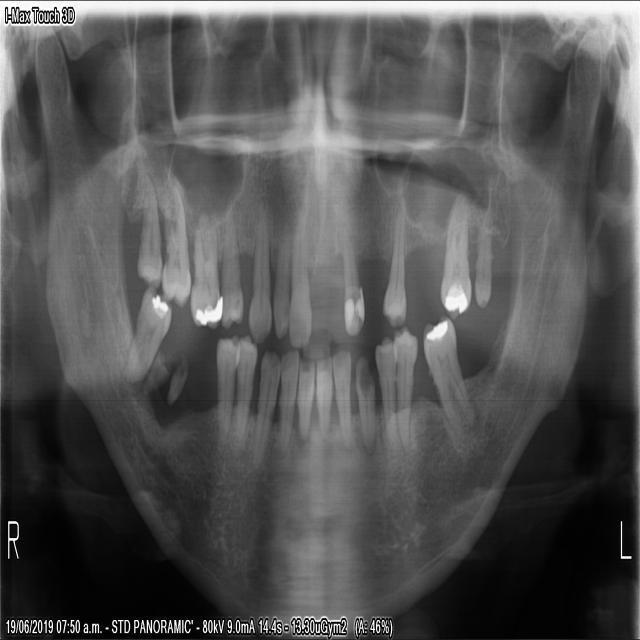LCD: (353, 350, 374, 458)
LID: (329, 342, 349, 452), (311, 349, 332, 446)
LIU: (340, 201, 364, 339)
LMD: (417, 306, 474, 442)
LMU: (433, 187, 471, 322)
LPMD: (388, 318, 418, 453), (371, 330, 394, 459)
LPMU: (378, 191, 406, 328)
RCD: (246, 345, 279, 469)
RCU: (245, 197, 272, 345), (269, 217, 290, 342)
RID: (274, 345, 299, 457), (293, 353, 314, 441)
RIU: (284, 200, 309, 348)
RMD: (116, 283, 170, 378)
RMU: (157, 167, 190, 308), (185, 209, 221, 327), (133, 162, 159, 290)
RPMD: (211, 331, 240, 453), (229, 330, 257, 447)
RPMU: (215, 199, 242, 327)
